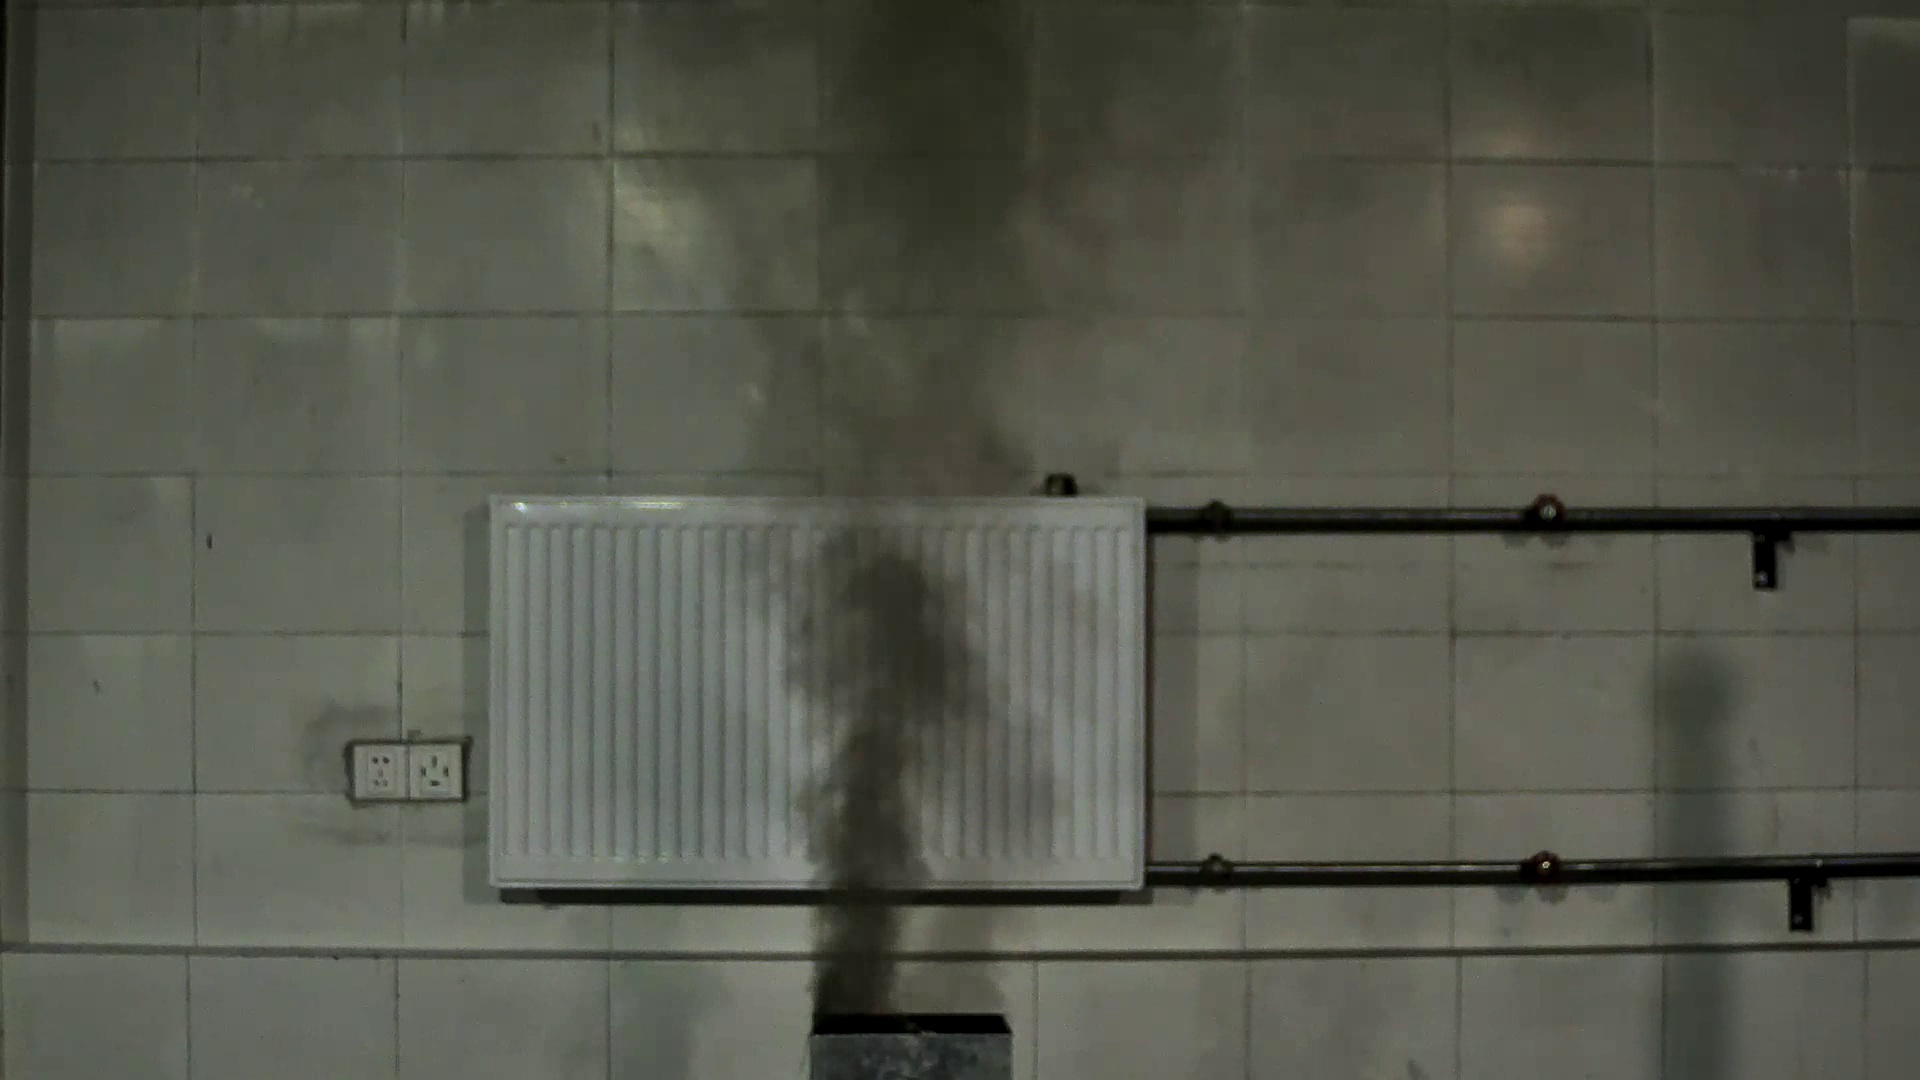smoke: (744, 534, 1011, 1018)
